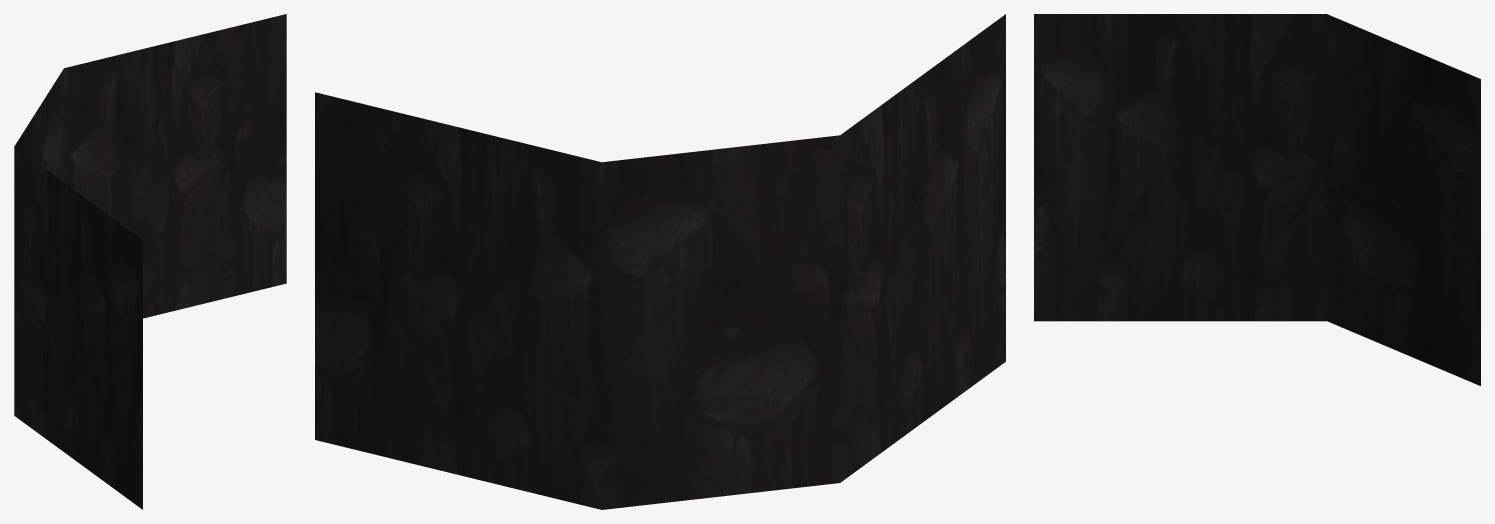
File: cave_half_concave_01.fbx
3 renders of one model, left to right at view 1: azimuth 30°, elevation 25°; view 2: azimuth 150°, elevation 25°; view 3: azimuth 270°, elevation 25°, orthographic. The views are drawn at different scales.
Parts seen in each view (by area): view 1: cave_tileset/wall01_half_mat; view 2: cave_tileset/wall01_half_mat; view 3: cave_tileset/wall01_half_mat.
Part boxes in pixels (<box>): cave_tileset/wall01_half_mat: <box>14,14,286,509</box>; cave_tileset/wall01_half_mat: <box>315,14,1005,509</box>; cave_tileset/wall01_half_mat: <box>1034,14,1480,385</box>.
Size of the model in its own units: 3.62 by 2.75 by 3.63.
